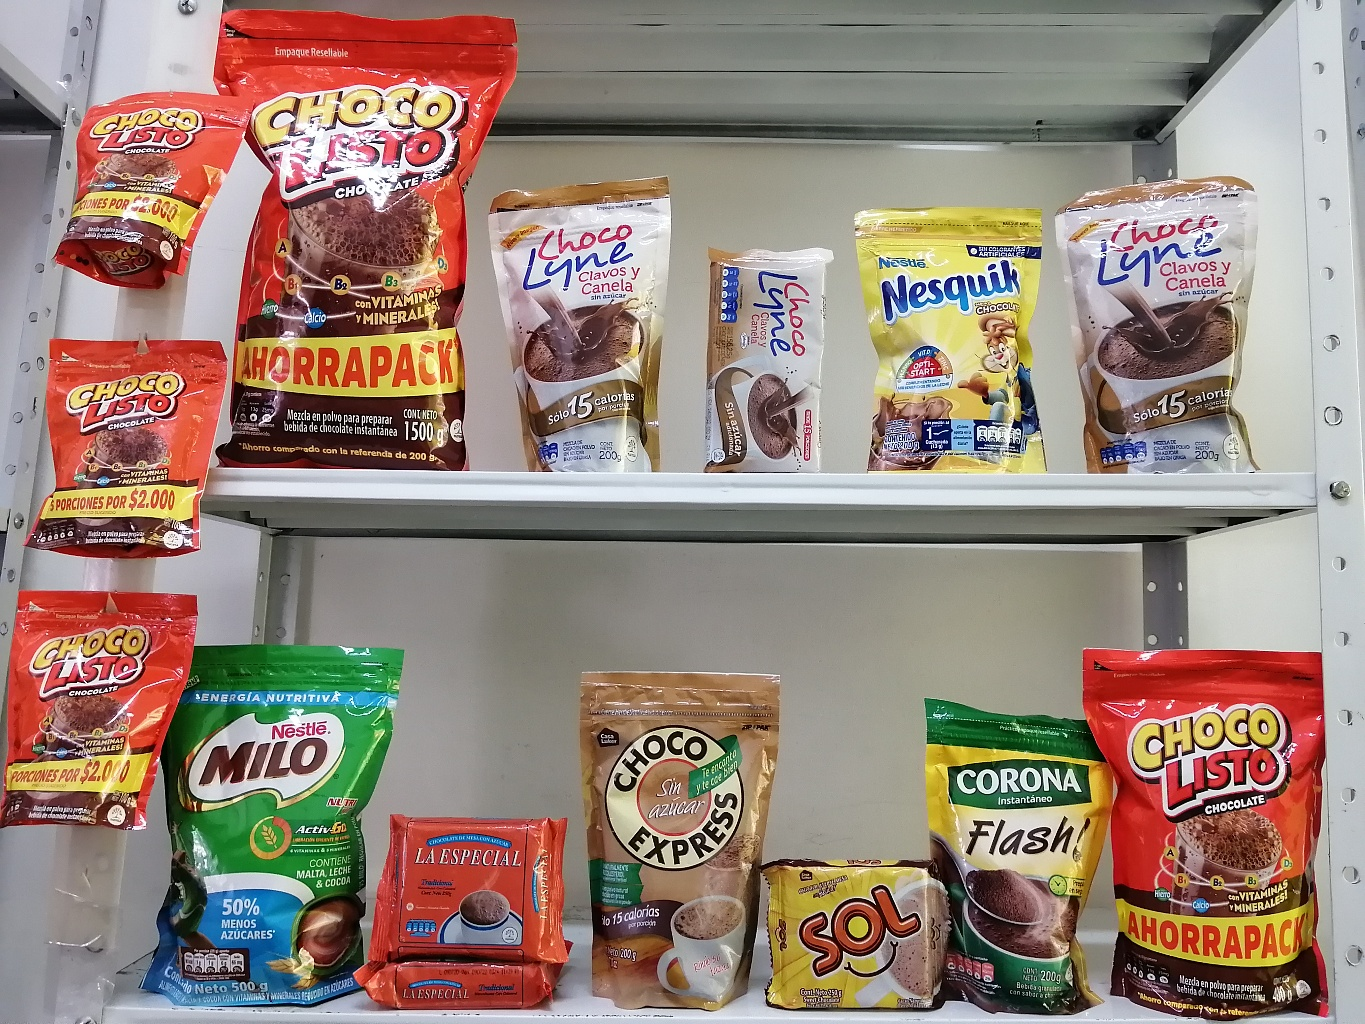COL0170103DYP1,500: (203, 1, 525, 484)
COL0170103DYP10000: (58, 73, 258, 284)
COL0170103DYP40000: (1061, 629, 1342, 1018)
COL0170205DYP50000: (136, 622, 412, 1010)
COL0170303DYP20000: (825, 190, 1073, 477)
